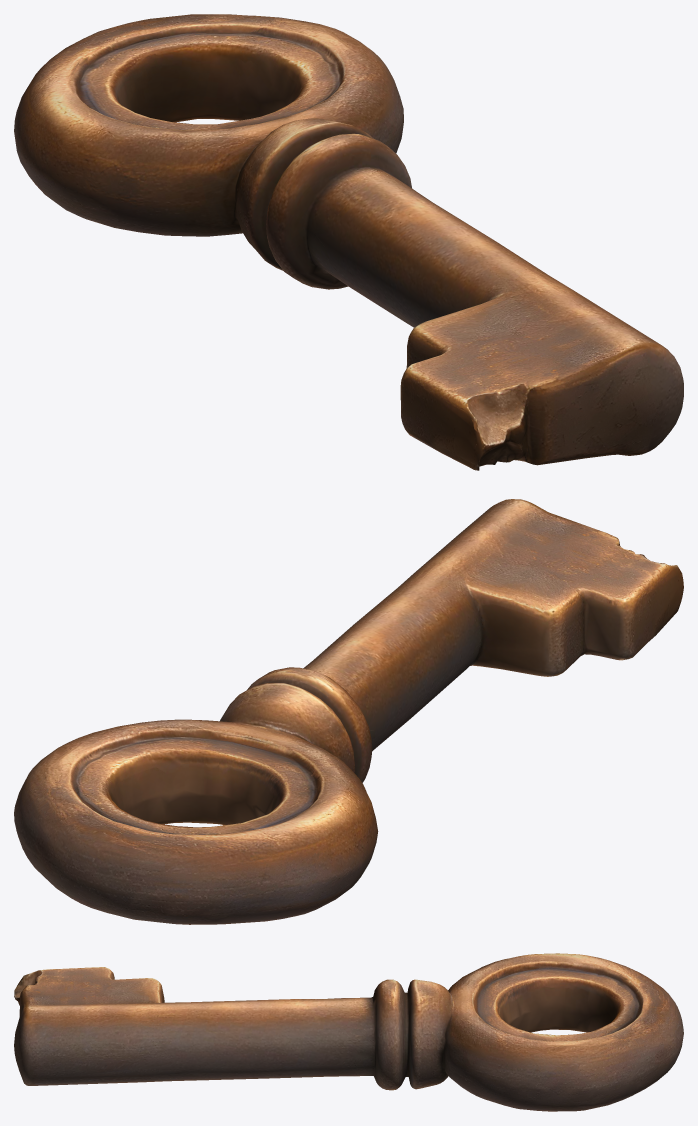
Rendered from key.glb.
3 views of the same model, one above another, from view 1: azimuth 30°, elevation 25°; view 2: azimuth 150°, elevation 25°; view 3: azimuth 270°, elevation 25° (orthographic). The views are drawn at different scales.
Parts seen in each view (by area): view 1: tripo_node_4c0f4a6c-8593-451b-bfaa-905c0a5b7303; view 2: tripo_node_4c0f4a6c-8593-451b-bfaa-905c0a5b7303; view 3: tripo_node_4c0f4a6c-8593-451b-bfaa-905c0a5b7303.
Boxes of the visible parts, bbox=[...] form: tripo_node_4c0f4a6c-8593-451b-bfaa-905c0a5b7303: bbox=[14, 14, 683, 470]; tripo_node_4c0f4a6c-8593-451b-bfaa-905c0a5b7303: bbox=[14, 499, 683, 924]; tripo_node_4c0f4a6c-8593-451b-bfaa-905c0a5b7303: bbox=[14, 953, 683, 1111].
Bounding box in the file's own units: 0.3951 × 0.1617 × 0.9802.
Materials: 1 (1 with a texture image).
